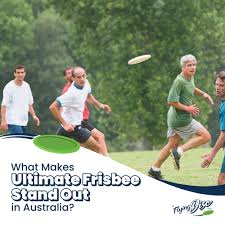disc: (128, 54, 151, 67)
